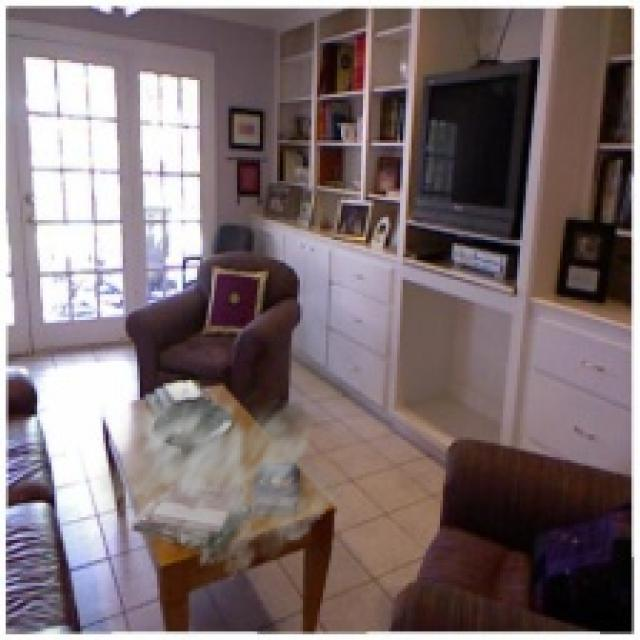Smoke: (89, 354, 348, 583)
